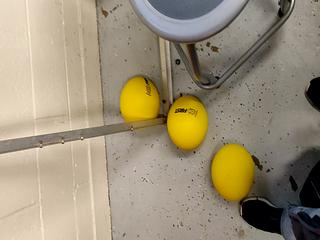power_cell: (205, 138, 262, 209), (159, 91, 216, 162), (109, 67, 166, 138)
